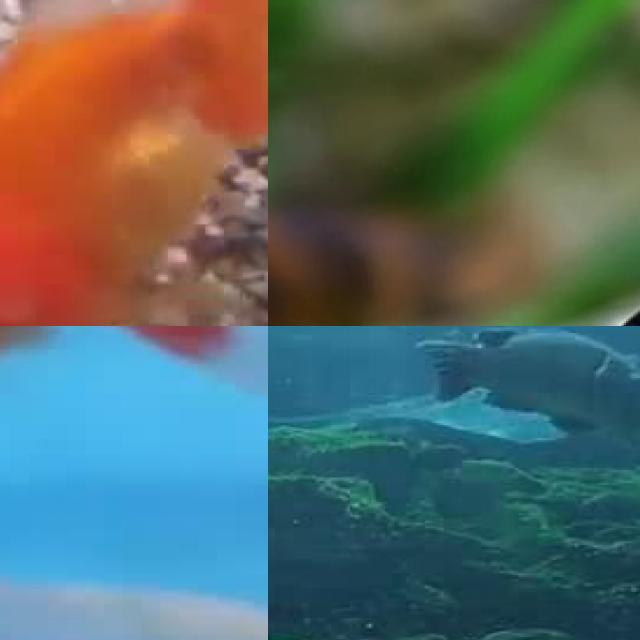fish: (0, 0, 268, 326), (0, 326, 268, 640), (459, 45, 640, 326)
